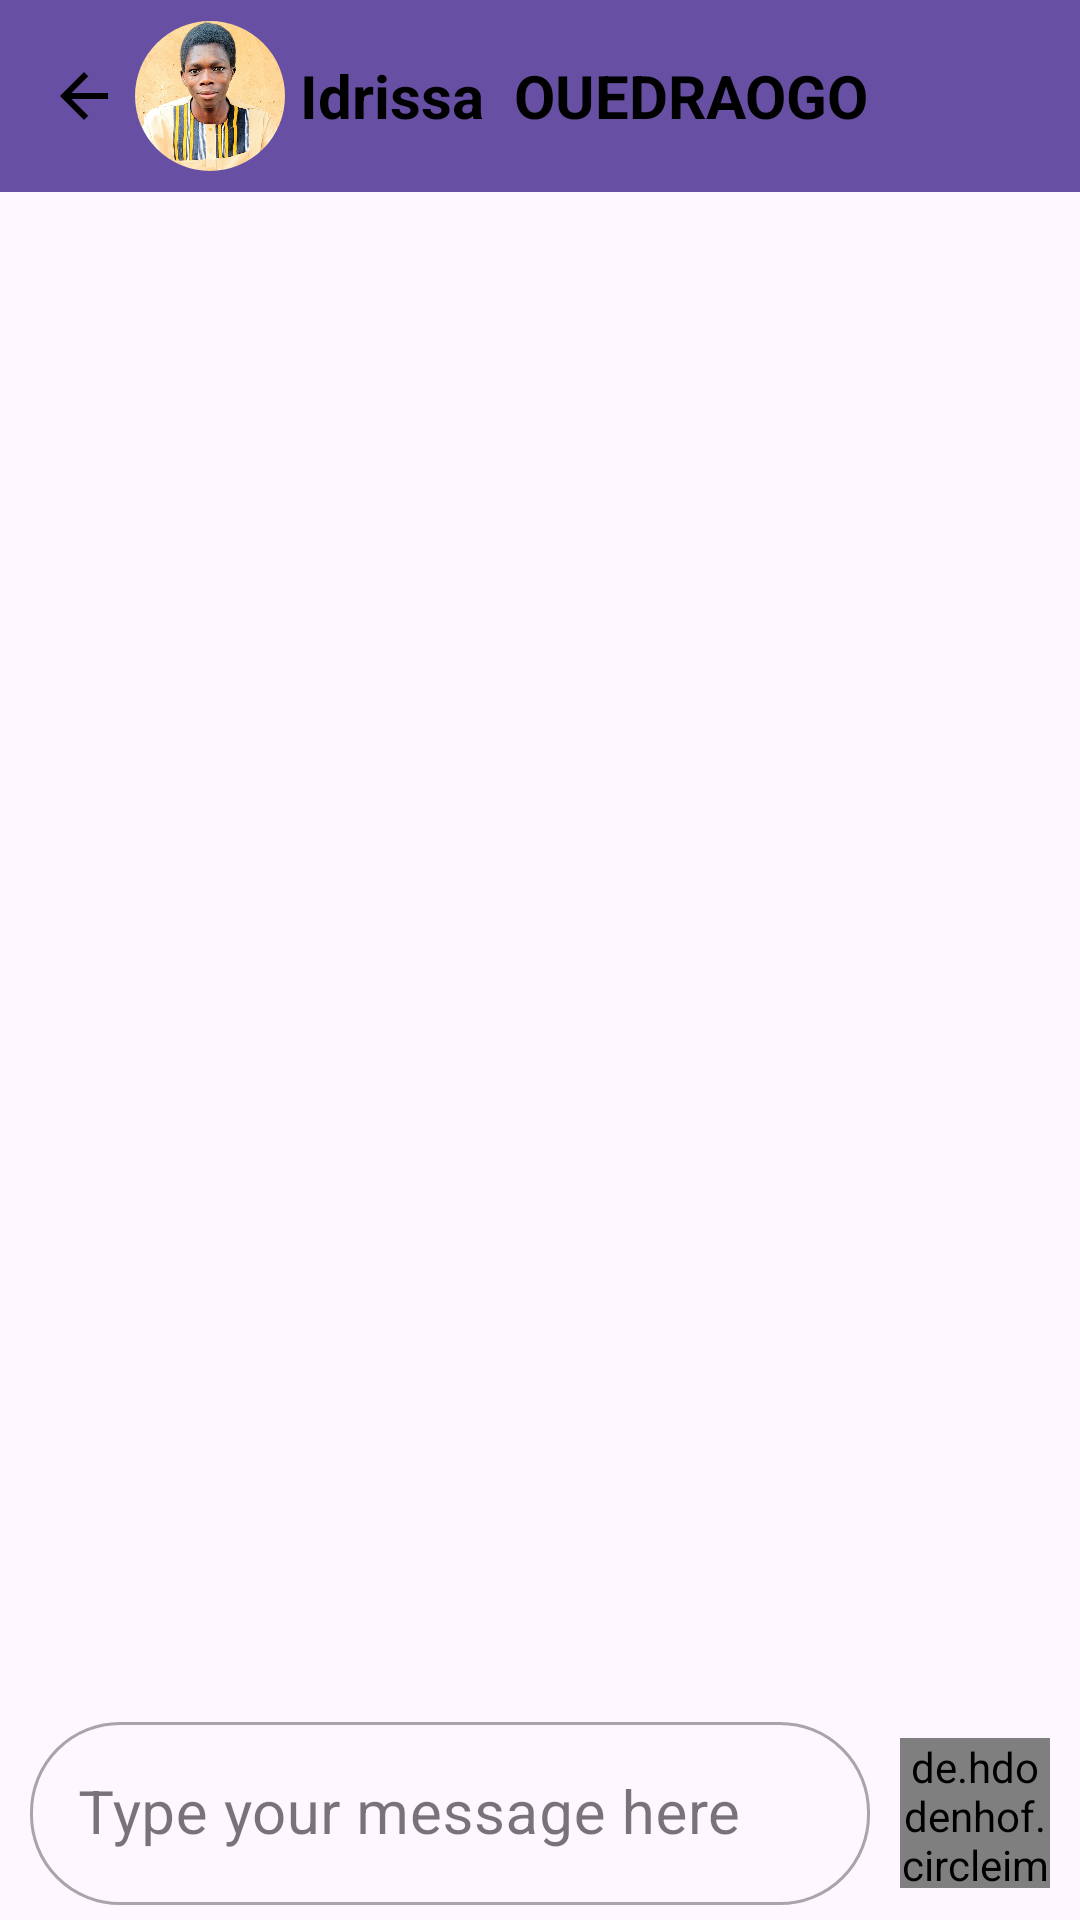

Icon click points for this 1080x1920 phone screenshot, format [x,y]:
BACK: [84,96]
